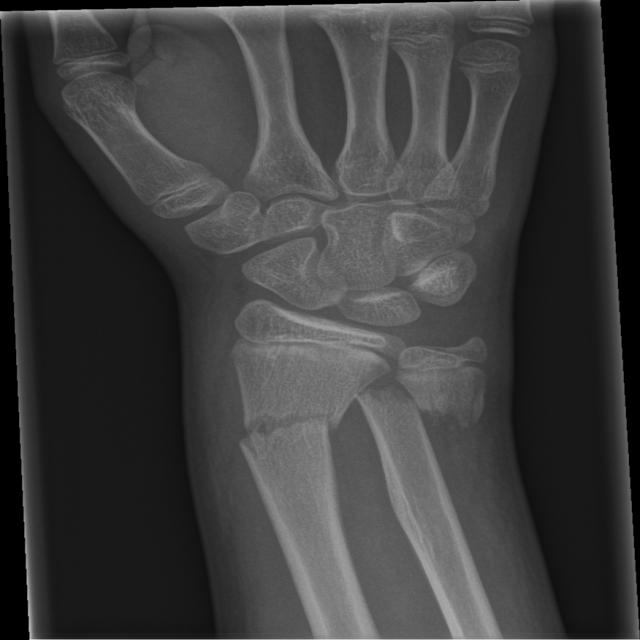radius fracture: (202, 366, 378, 520)
ulna fracture: (363, 347, 502, 524)
